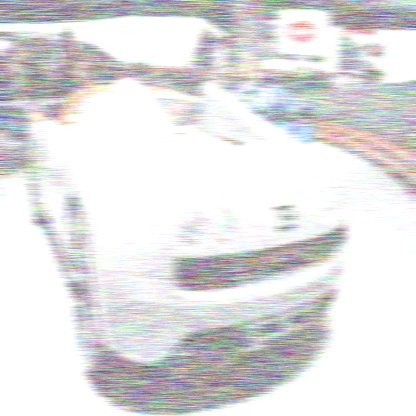Vehicle: (27, 77, 350, 388)
